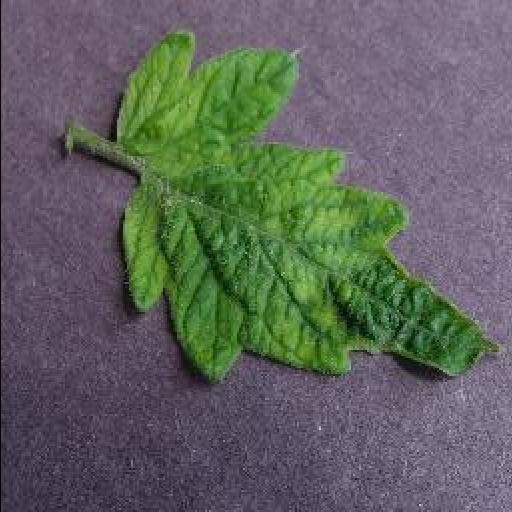Mosaic Virus: (112, 30, 502, 384)
